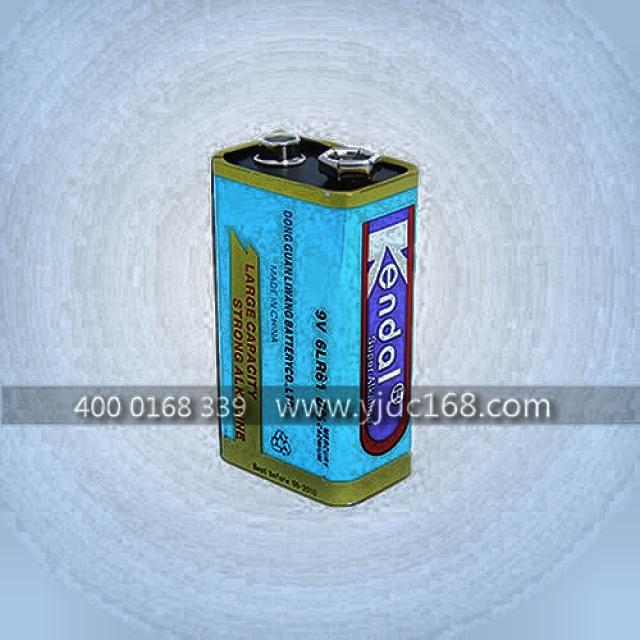Non-Valuable Waste - Batteries: (212, 131, 418, 504)
